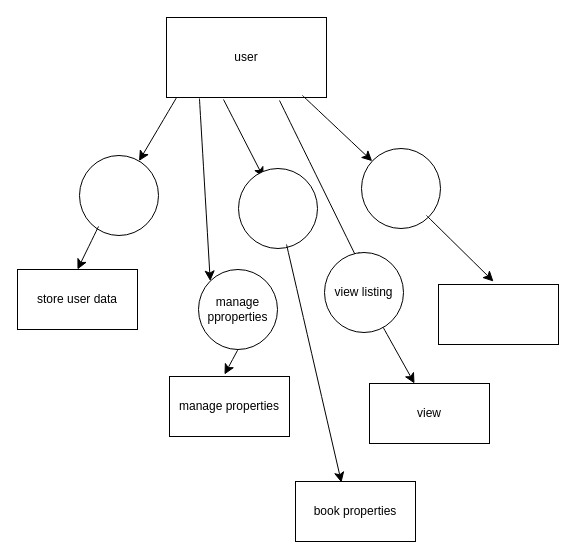
The diagram is 576 pixels wide and 559 high, and some of its shapes have lost their labels. The shapes that lost their labels are listed below. From the top down, each one's centre as x and y in pixels, then its label:
At point 118,195: "register user".
At point 278,208: "book property".
At point 400,188: "process payment".
